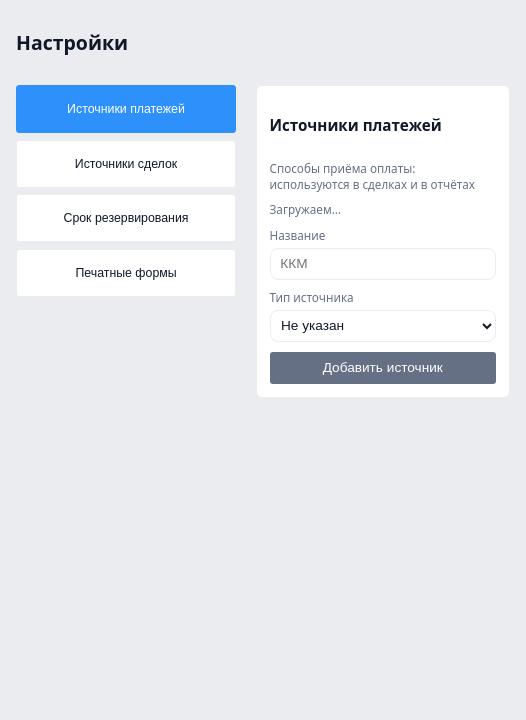
Test: печатные формы в настройках › кнопка не молчит: пока ничего не изменено, сказано почему
Click the button "Печатные формы" at [126, 273], box [16,249,236,297]
(page scrolled)
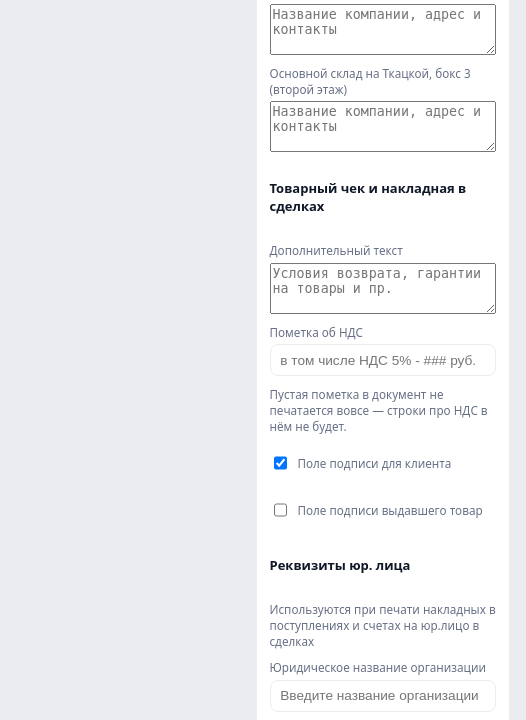
Check: the text box named "Реквизиты склада: Ткацкая" is shown, box [270,4,496,55]
Type "НДС не облагается" into the field labelled "Пометка об НДС" at [383, 360], box [270,344,496,376]
(page scrolled)
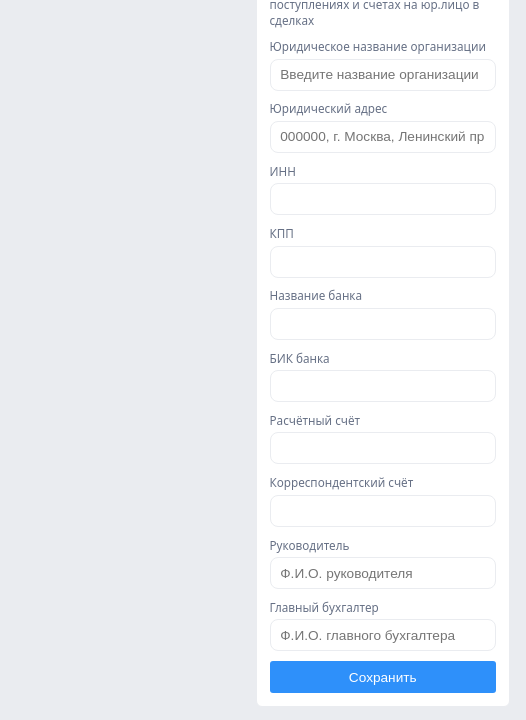
Check: the button "Сохранить" is enabled, box [270,661,496,693]
